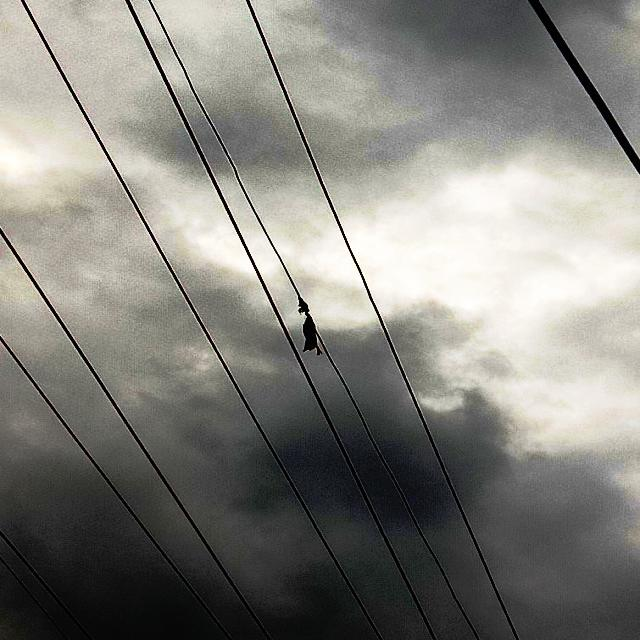obstruction: (290, 291, 326, 363)
wires: (18, 1, 390, 637), (109, 0, 447, 634), (244, 2, 529, 633), (328, 360, 489, 639), (518, 4, 639, 178), (2, 528, 105, 639)
